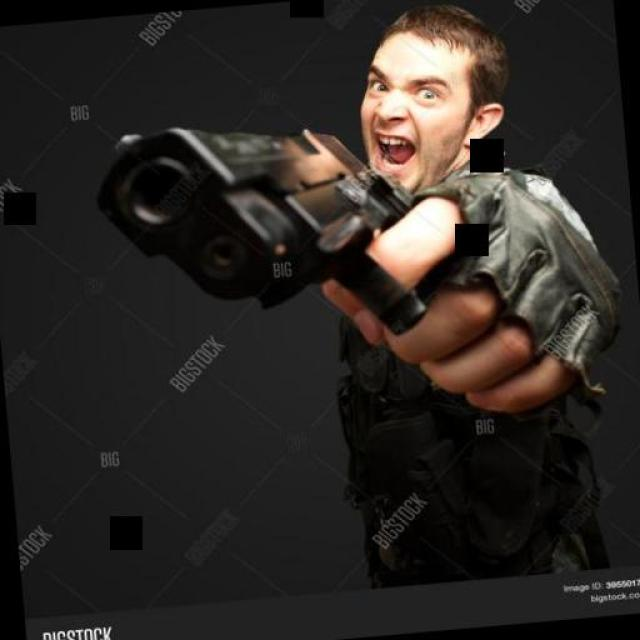gun: (69, 99, 444, 358)
